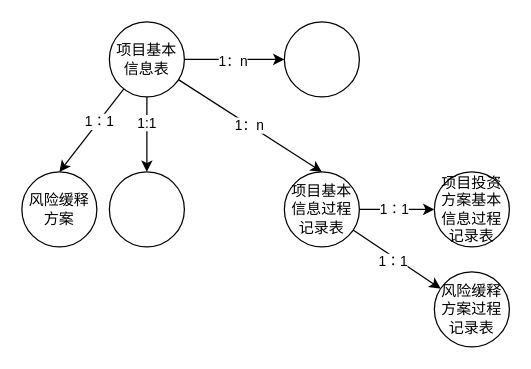
Image size: 531x369. Some labels were removed from this diagram. The shapes that lost their labels are listed below. From the top down, each one's centre as x and y in pixels, then its label:
At (x=321, y=59): "立项申请/立项投决一并信息".
At (x=146, y=209): "项目投资方案基本信息".
